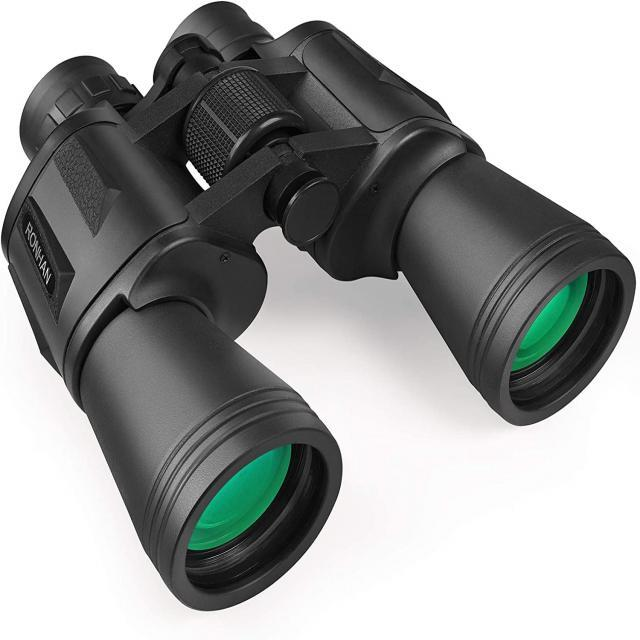Binocular: (2, 0, 636, 621)
